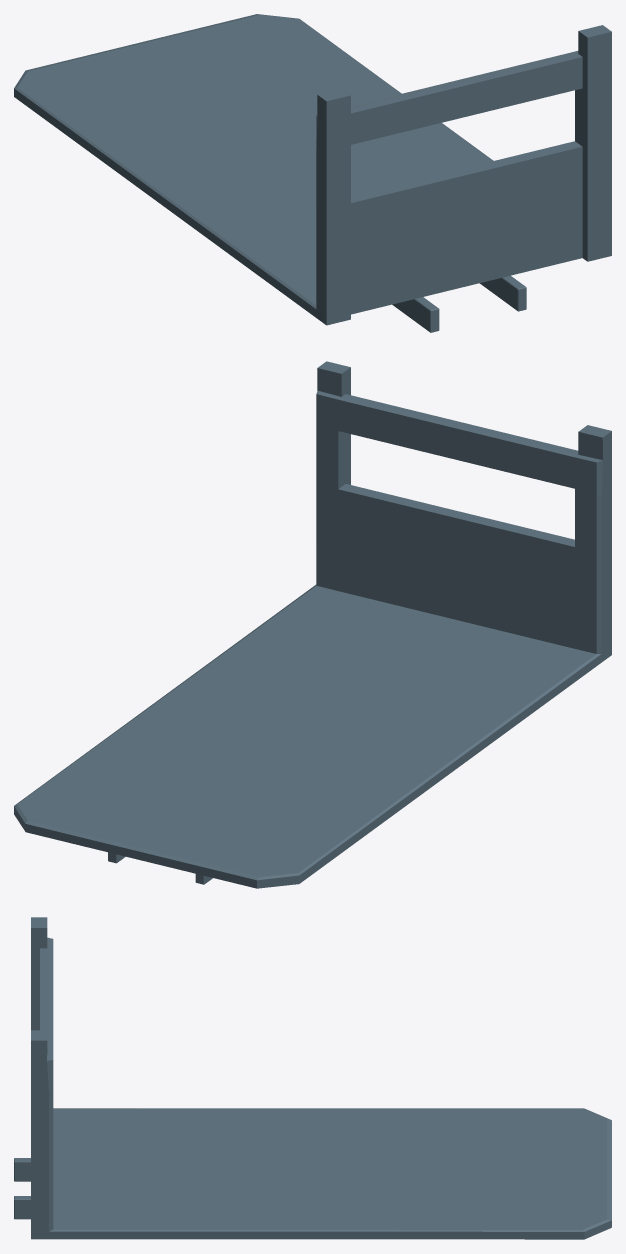
3 renders of one model, top to bottom at view 1: azimuth 30°, elevation 25°; view 2: azimuth 150°, elevation 25°; view 3: azimuth 270°, elevation 25°, orthographic. The views are drawn at different scales.
Parts seen in each view (by area): view 1: Cube.2816_Black_0; view 2: Cube.2816_Black_0; view 3: Cube.2816_Black_0.
Boxes of the visible parts, x1,y1,x2,y2 form: Cube.2816_Black_0: [14, 14, 611, 332]; Cube.2816_Black_0: [14, 361, 611, 888]; Cube.2816_Black_0: [14, 917, 611, 1239].
Size of the model in its own units: 2.97 by 2.46 by 6.08.
